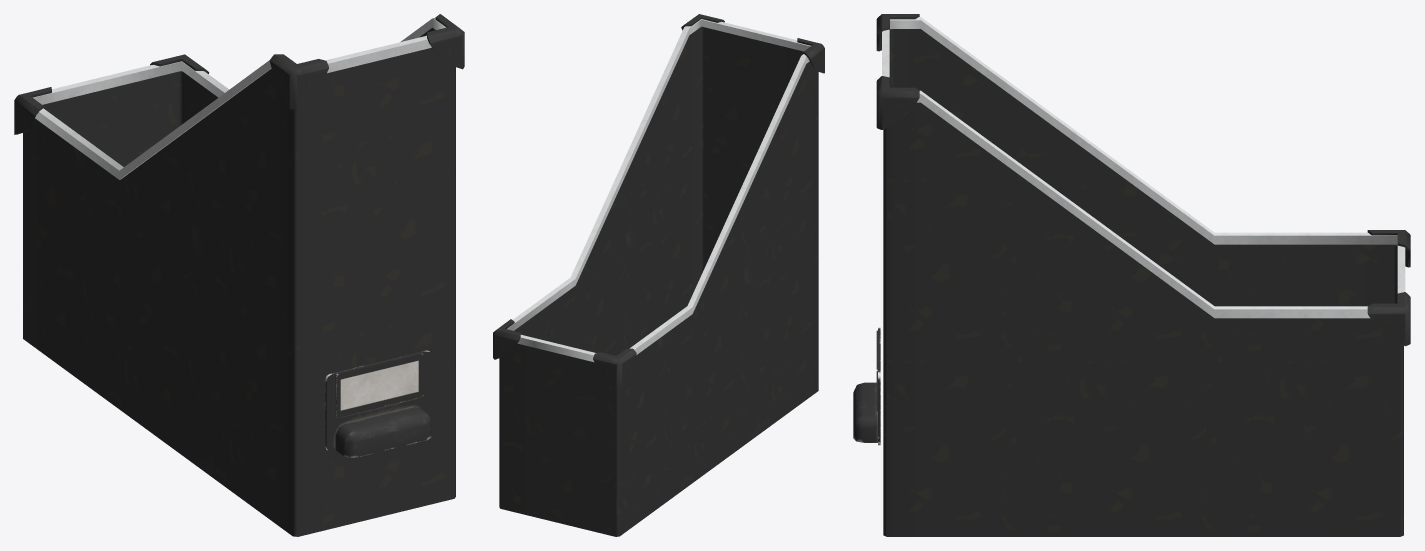
File: ikea_filebox_magazines.fbx
3 views of the same model, side by side, from view 1: azimuth 30°, elevation 25°; view 2: azimuth 150°, elevation 25°; view 3: azimuth 270°, elevation 25° (orthographic). The views are drawn at different scales.
Parts seen in each view (by area): view 1: ikea_filebox_magazines; view 2: ikea_filebox_magazines; view 3: ikea_filebox_magazines.
Boxes of the visible parts, x1,y1,x2,y2 form: ikea_filebox_magazines: [14, 14, 464, 536]; ikea_filebox_magazines: [493, 14, 824, 536]; ikea_filebox_magazines: [853, 14, 1410, 536].
Bounding box in the file's own units: 8.06 × 20.62 × 23.3.
